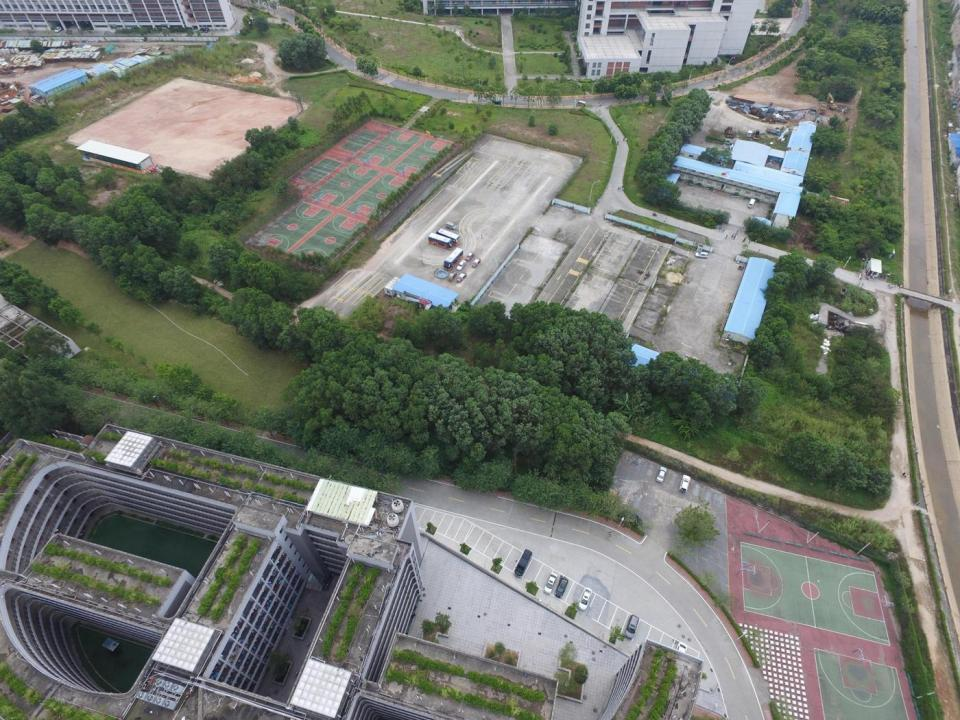bus: (442, 247, 464, 271), (427, 232, 455, 250), (435, 228, 461, 246), (578, 100, 587, 107)
car: (514, 546, 532, 578), (617, 508, 643, 529), (624, 614, 640, 641), (578, 586, 593, 612), (672, 641, 688, 662), (555, 575, 569, 598), (544, 572, 557, 594), (680, 472, 690, 493), (655, 466, 666, 483), (446, 271, 458, 282), (457, 259, 467, 271), (695, 251, 709, 259), (457, 272, 467, 283), (471, 258, 481, 268), (465, 251, 474, 261), (54, 25, 63, 34), (747, 198, 755, 208), (747, 128, 752, 138)
truck: (596, 486, 618, 514), (764, 128, 780, 136)
van: (444, 221, 456, 230)
